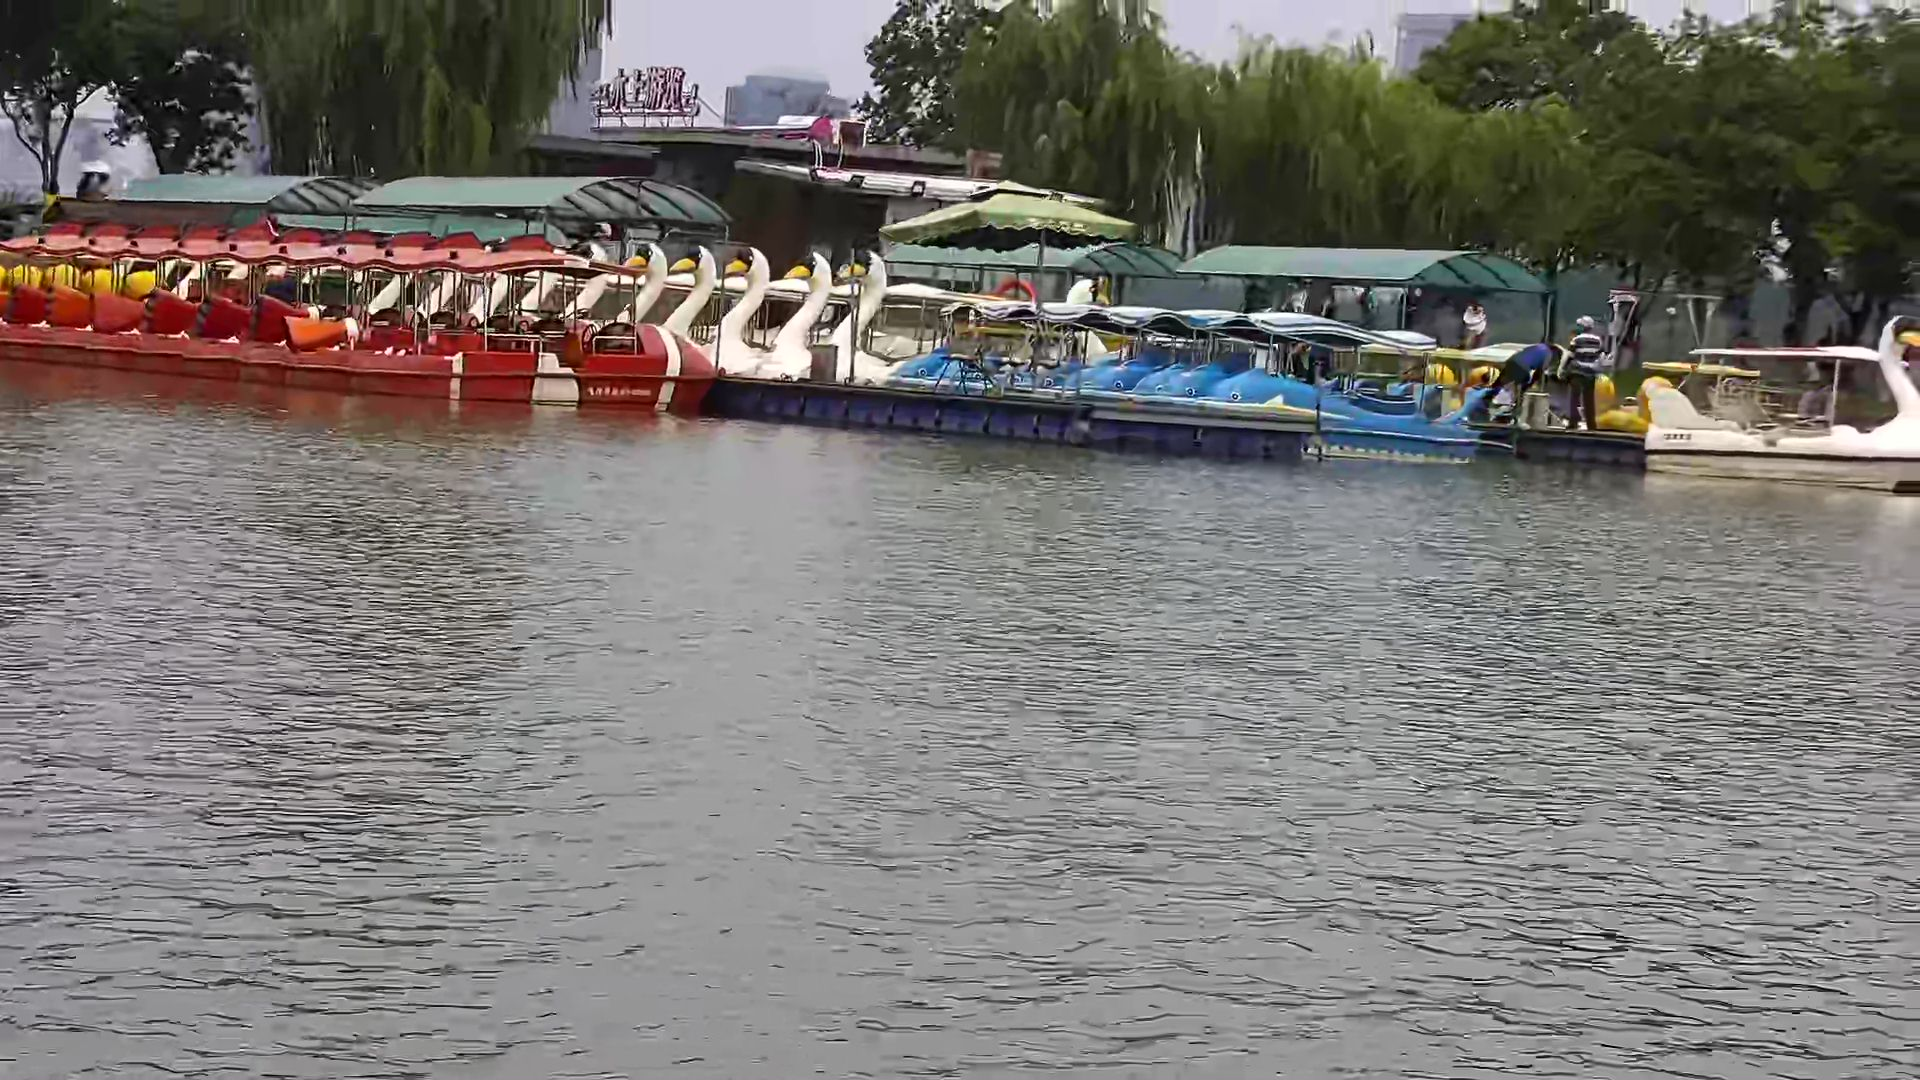harbor: (11, 166, 1913, 495)
